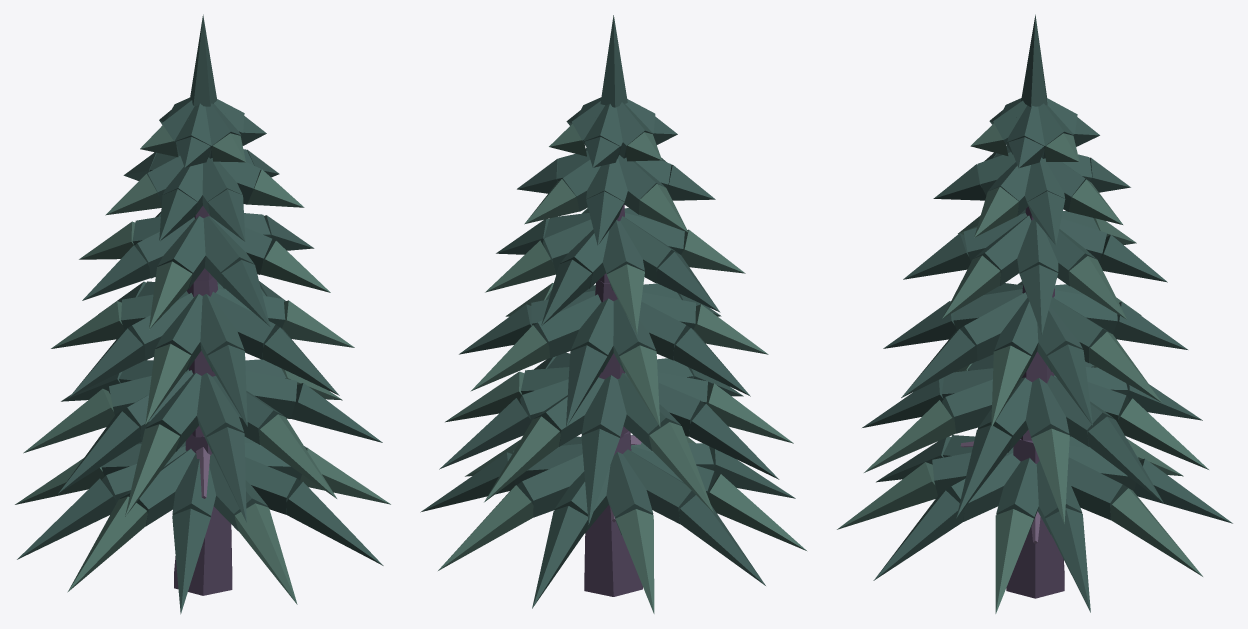
The model's file is tree_pine.glb.
The picture shows the model from 3 angles, left to right: view 1: azimuth 30°, elevation 25°; view 2: azimuth 150°, elevation 25°; view 3: azimuth 270°, elevation 25°; orthographic projection.
Parts seen in each view (by area): view 1: tree_pine; view 2: tree_pine; view 3: tree_pine.
Part boxes in pixels (bbox=[...]): tree_pine: bbox=[15, 14, 390, 614]; tree_pine: bbox=[420, 15, 806, 613]; tree_pine: bbox=[837, 14, 1232, 613].
Size of the model in its own units: 3.24 by 5.21 by 3.29.
